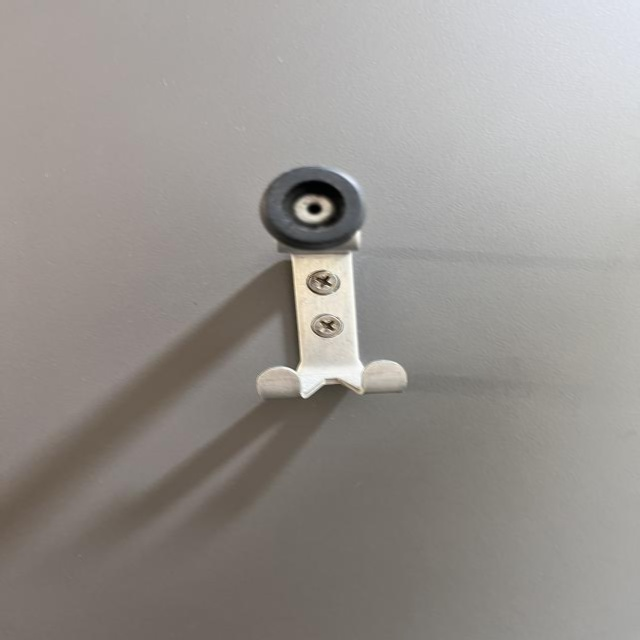phillips: (306, 269, 339, 295), (310, 313, 343, 337)
